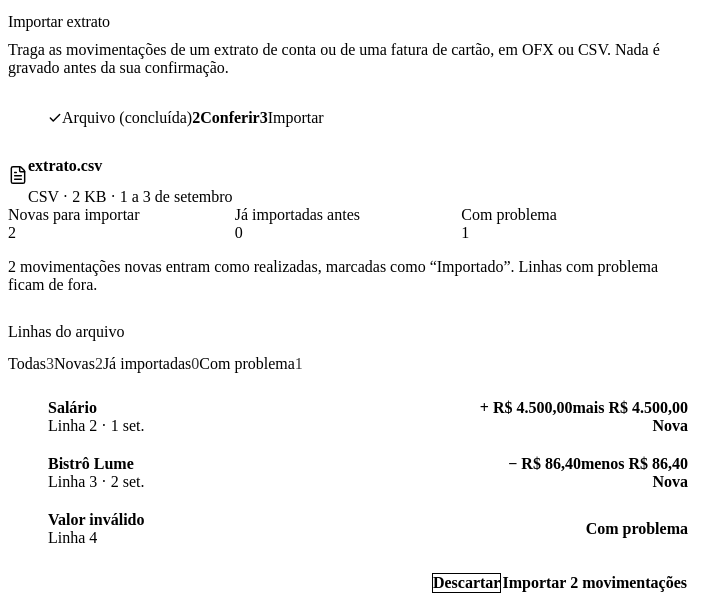
it: ImportView — preview, confirmação e resultado › descartar mostra o estado cancelado
This screenshot has width=705, height=610.
Click the button "Descartar" at (467, 582), box [432,572,501,592]
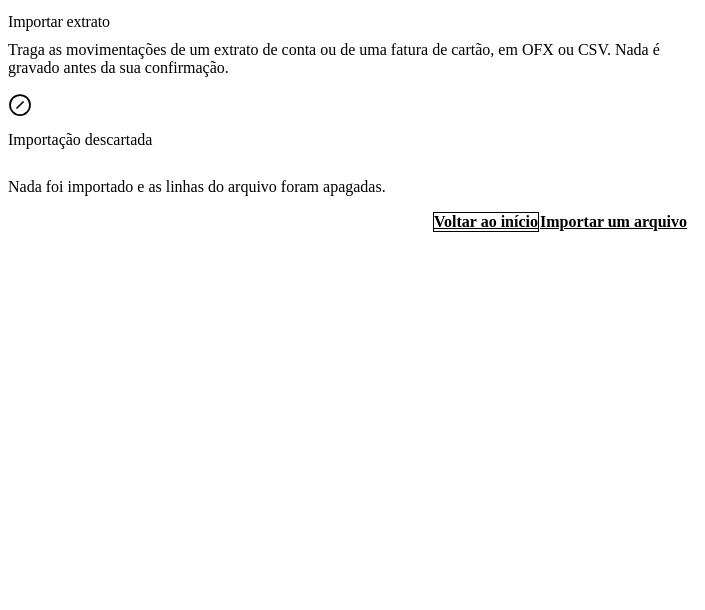
Expected: the heading "Importação descartada" is shown, [8,131,152,149]
